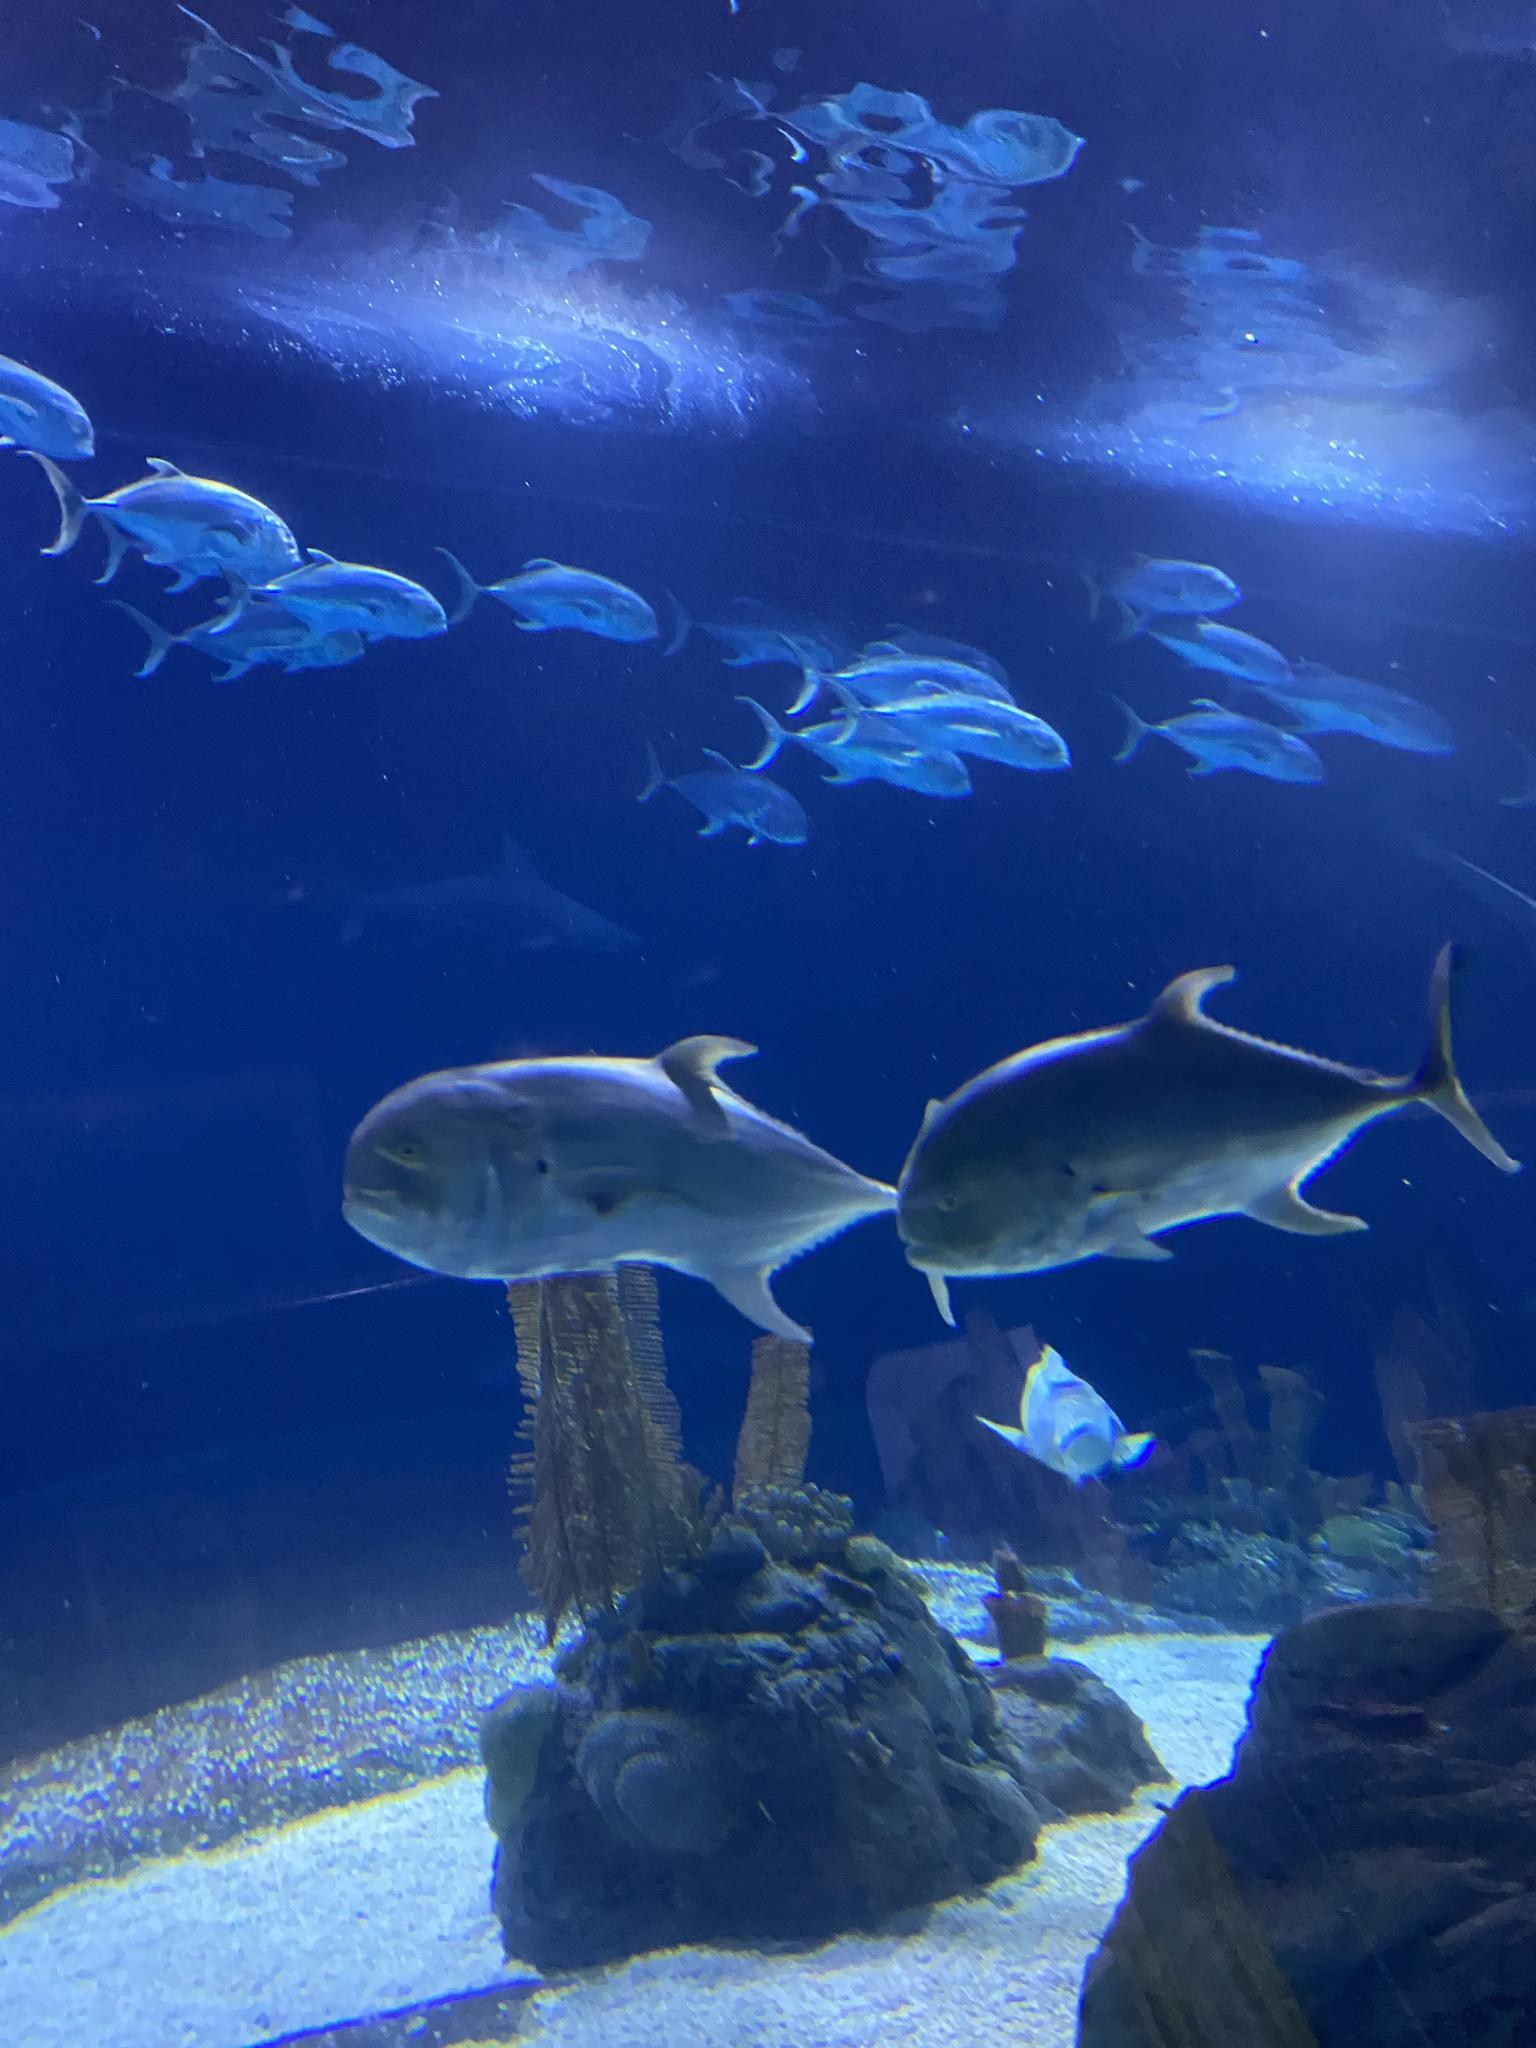fish: (894, 942, 1520, 1279), (336, 1030, 965, 1338), (39, 460, 305, 605), (766, 621, 1020, 735), (733, 689, 978, 800), (211, 545, 460, 651), (979, 1343, 1149, 1490), (821, 677, 1071, 776), (1100, 692, 1321, 800), (437, 547, 665, 648), (118, 598, 369, 685), (1278, 648, 1460, 760), (636, 739, 815, 850), (1087, 543, 1238, 634), (0, 348, 98, 464)
shark: (286, 840, 647, 976)
